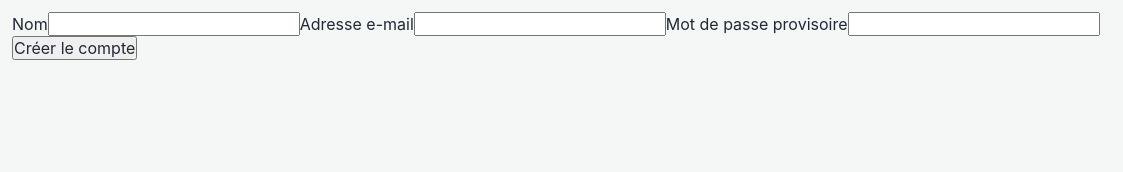
CreateMemberForm › creates a member and confirms success
Step 1. Type "Ada Lovelace" into the field labelled "Nom" → (174, 24), box [48, 12, 300, 36]
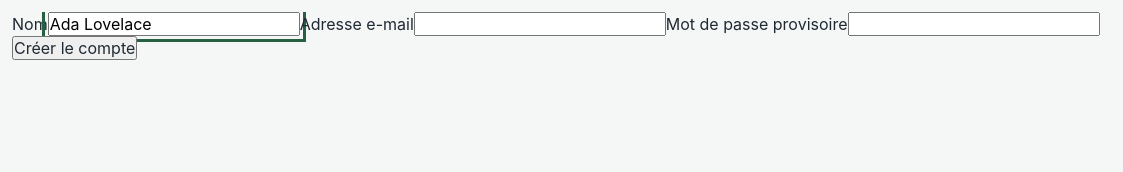
Step 2. Type "ada@example.test" into the field labelled "Adresse e-mail" → (540, 24), box [414, 12, 666, 36]
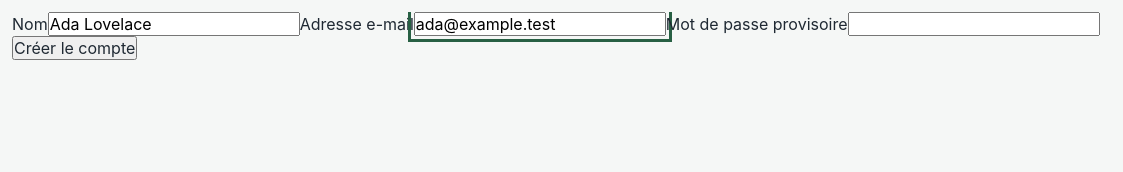
Step 3. Type "a-temporary-password" into the password field labelled "Mot de passe provisoire" → (974, 24), box [848, 12, 1100, 36]
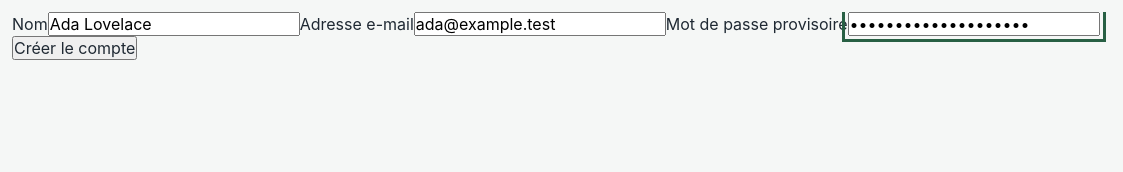
Step 4. Click the button "Créer le compte" → (75, 48), box [12, 36, 137, 60]
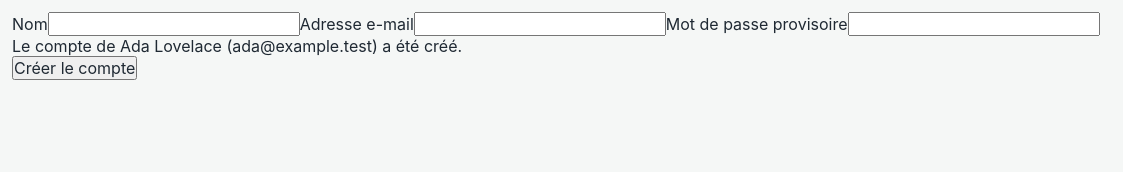
Check: the message reads "Le compte de Ada Lovelace (ada@example.test) a été créé.", box [12, 36, 462, 56]
